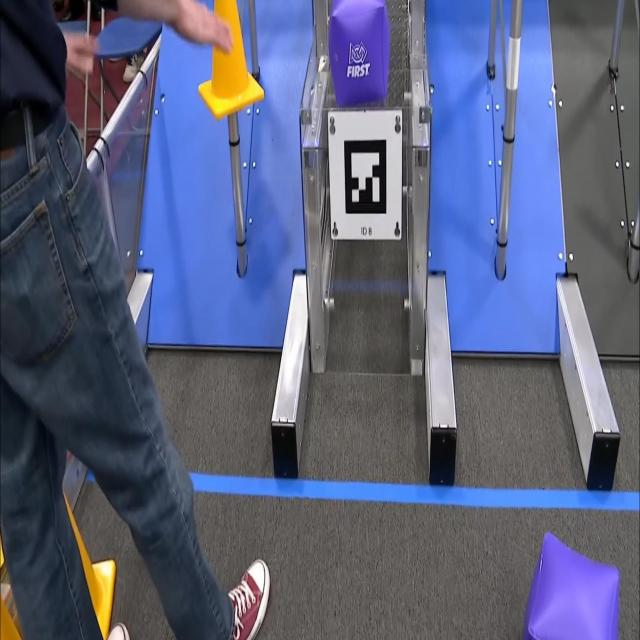frc_cone: (196, 0, 265, 122), (58, 497, 116, 640), (0, 580, 21, 640)
frc_cube: (527, 532, 627, 638), (328, 0, 391, 108)
